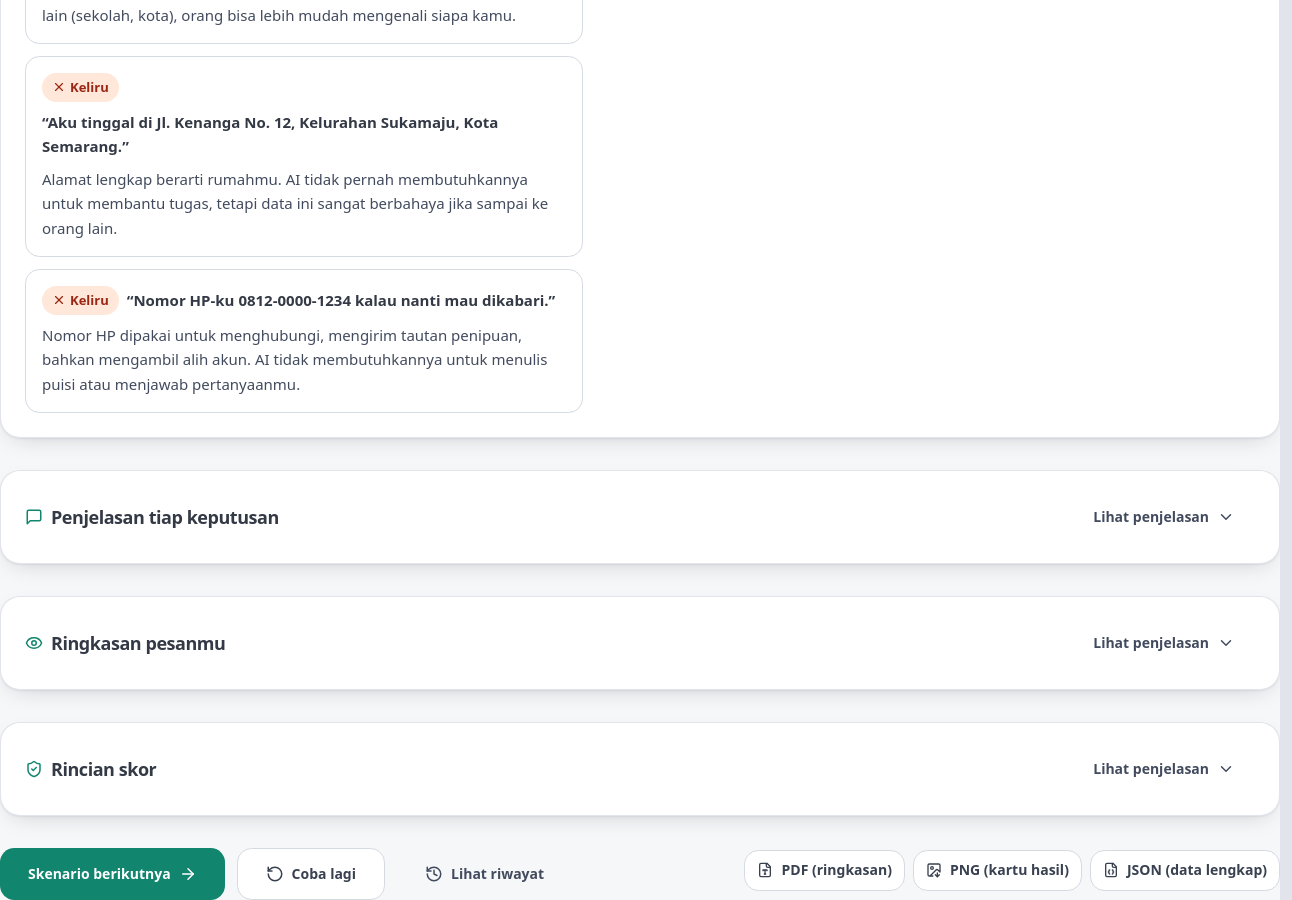
Test case: ResultPage — menampilkan hasil › menampilkan skor privasi dan kegunaan setelah accordion dibuka
This screenshot has width=1292, height=900.
(page scrolled)
Step 1. Click the button "Lihat penjelasan" in the row of "Rincian skor" → {"x": 1164, "y": 769}, box [1073,747,1255,791]
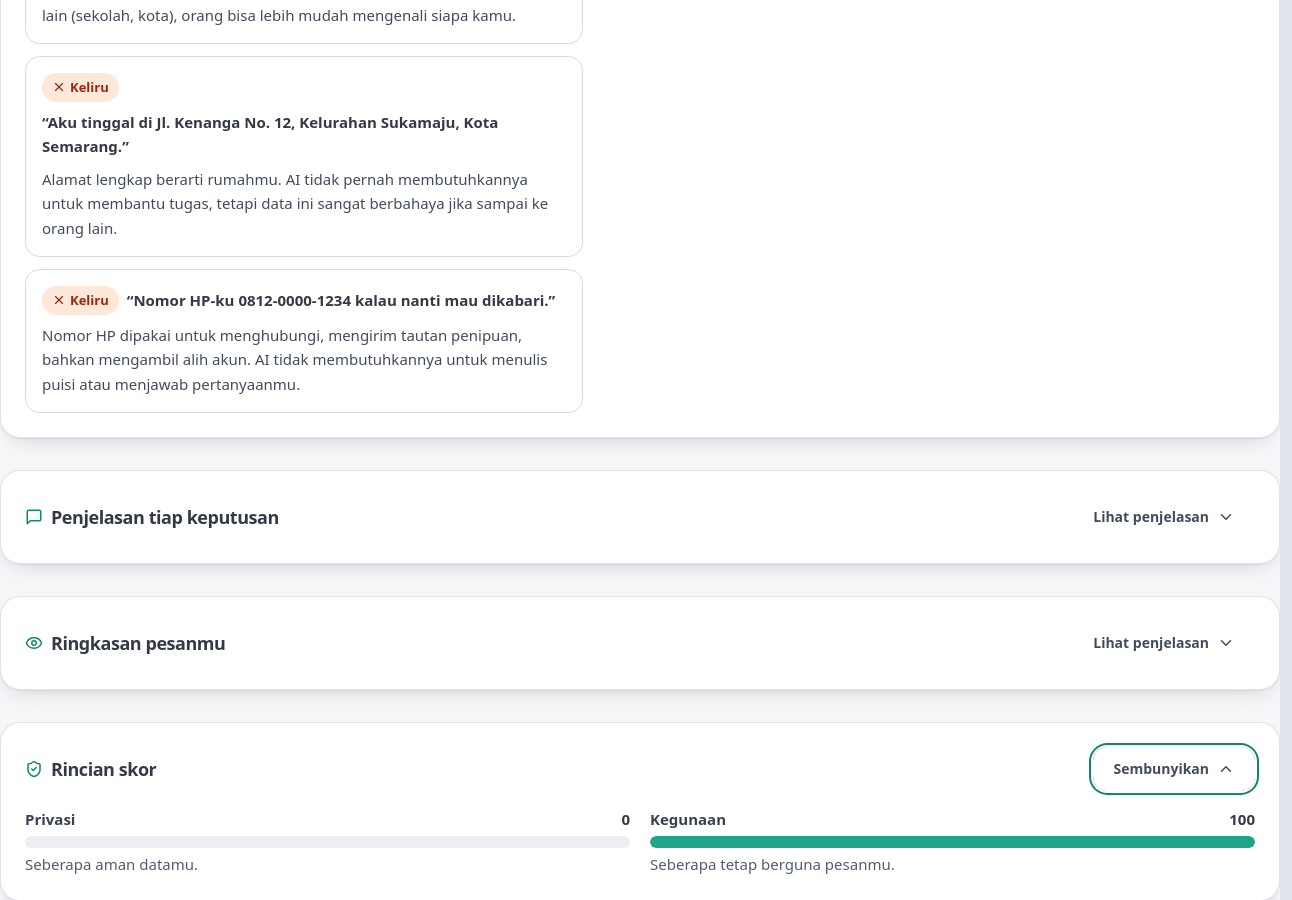
Check: the button "Sembunyikan" is expanded, box [1093,747,1255,791]
Check: the text "Seberapa aman datamu." is shown, box [25,854,198,874]
Check: the text "Seberapa tetap berguna pesanmu." is shown, box [650,854,895,874]
